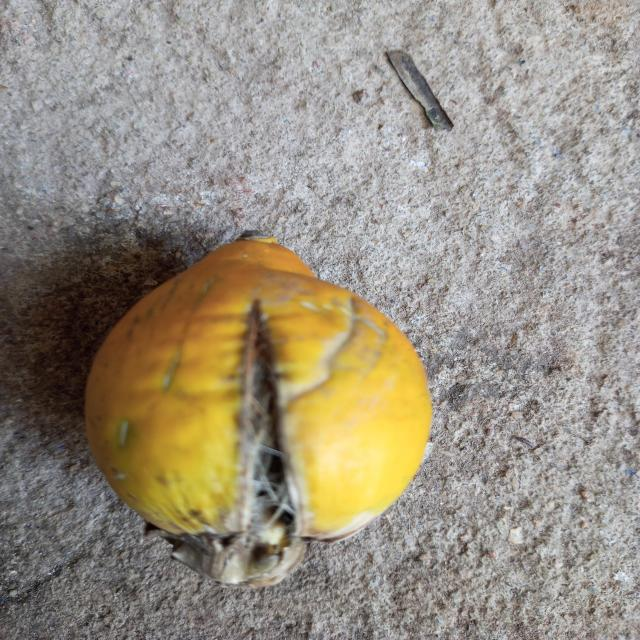damaged: (84, 235, 433, 590)
